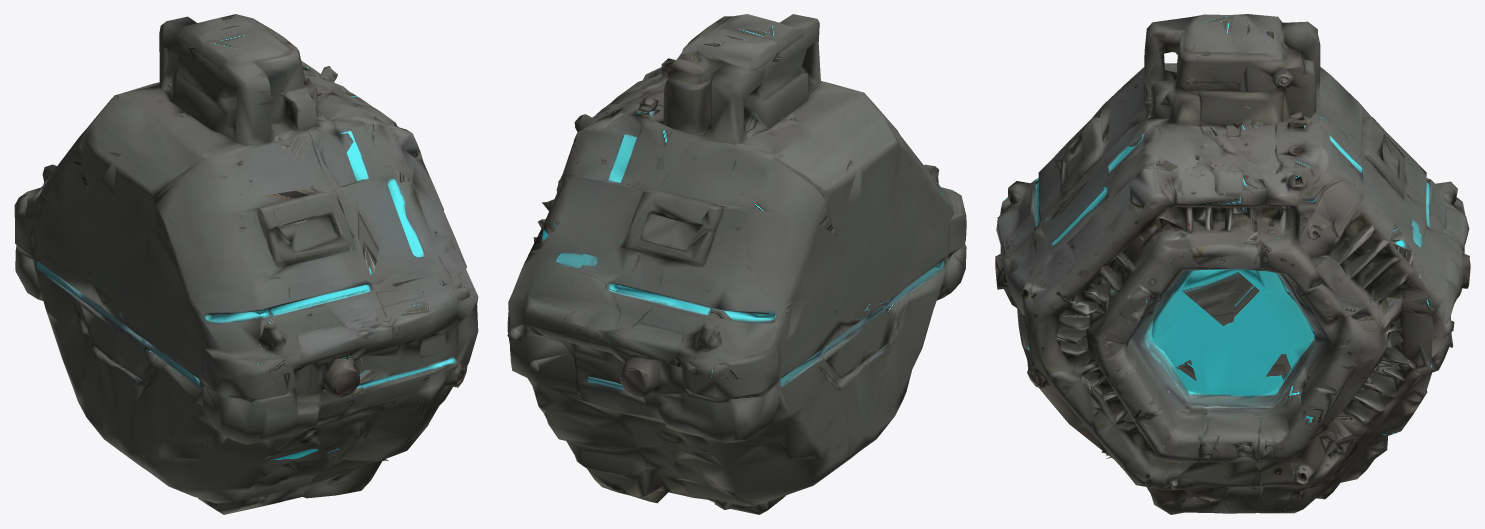
The model's file is field_emitter.glb.
The picture shows the model from 3 angles, left to right: view 1: azimuth 30°, elevation 25°; view 2: azimuth 150°, elevation 25°; view 3: azimuth 270°, elevation 25°; orthographic projection. The views are drawn at different scales.
Parts seen in each view (by area): view 1: tripo_node_2eeb5015-bf44-4b79-955d-df73ecbb655e; view 2: tripo_node_2eeb5015-bf44-4b79-955d-df73ecbb655e; view 3: tripo_node_2eeb5015-bf44-4b79-955d-df73ecbb655e.
Boxes of the visible parts, left/top/right/bottom form: tripo_node_2eeb5015-bf44-4b79-955d-df73ecbb655e: left=14, top=14, right=478, bottom=514; tripo_node_2eeb5015-bf44-4b79-955d-df73ecbb655e: left=507, top=14, right=966, bottom=514; tripo_node_2eeb5015-bf44-4b79-955d-df73ecbb655e: left=995, top=14, right=1470, bottom=514.
Size of the model in its own units: 0.6237 by 0.9978 by 0.9654.
1 material, 1 textured.
